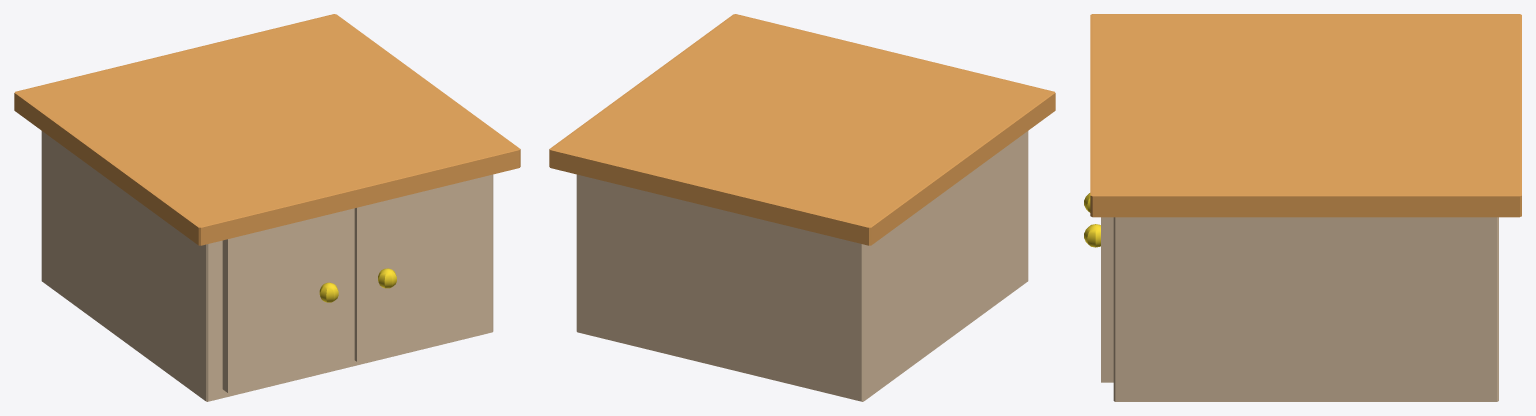
The model's file is classic_work_table.fbx.
3 views of the same model, side by side, from view 1: azimuth 30°, elevation 25°; view 2: azimuth 150°, elevation 25°; view 3: azimuth 270°, elevation 25° (orthographic). The views are drawn at different scales.
Visible parts, largest first — view 1: Counter; view 2: Counter; view 3: Counter.
Boxes of the visible parts, x1,y1,x2,y2 form: Counter: [14, 14, 520, 401]; Counter: [549, 14, 1055, 401]; Counter: [1084, 14, 1521, 401].
Size of the model in its own units: 1042 by 576 by 1058.
